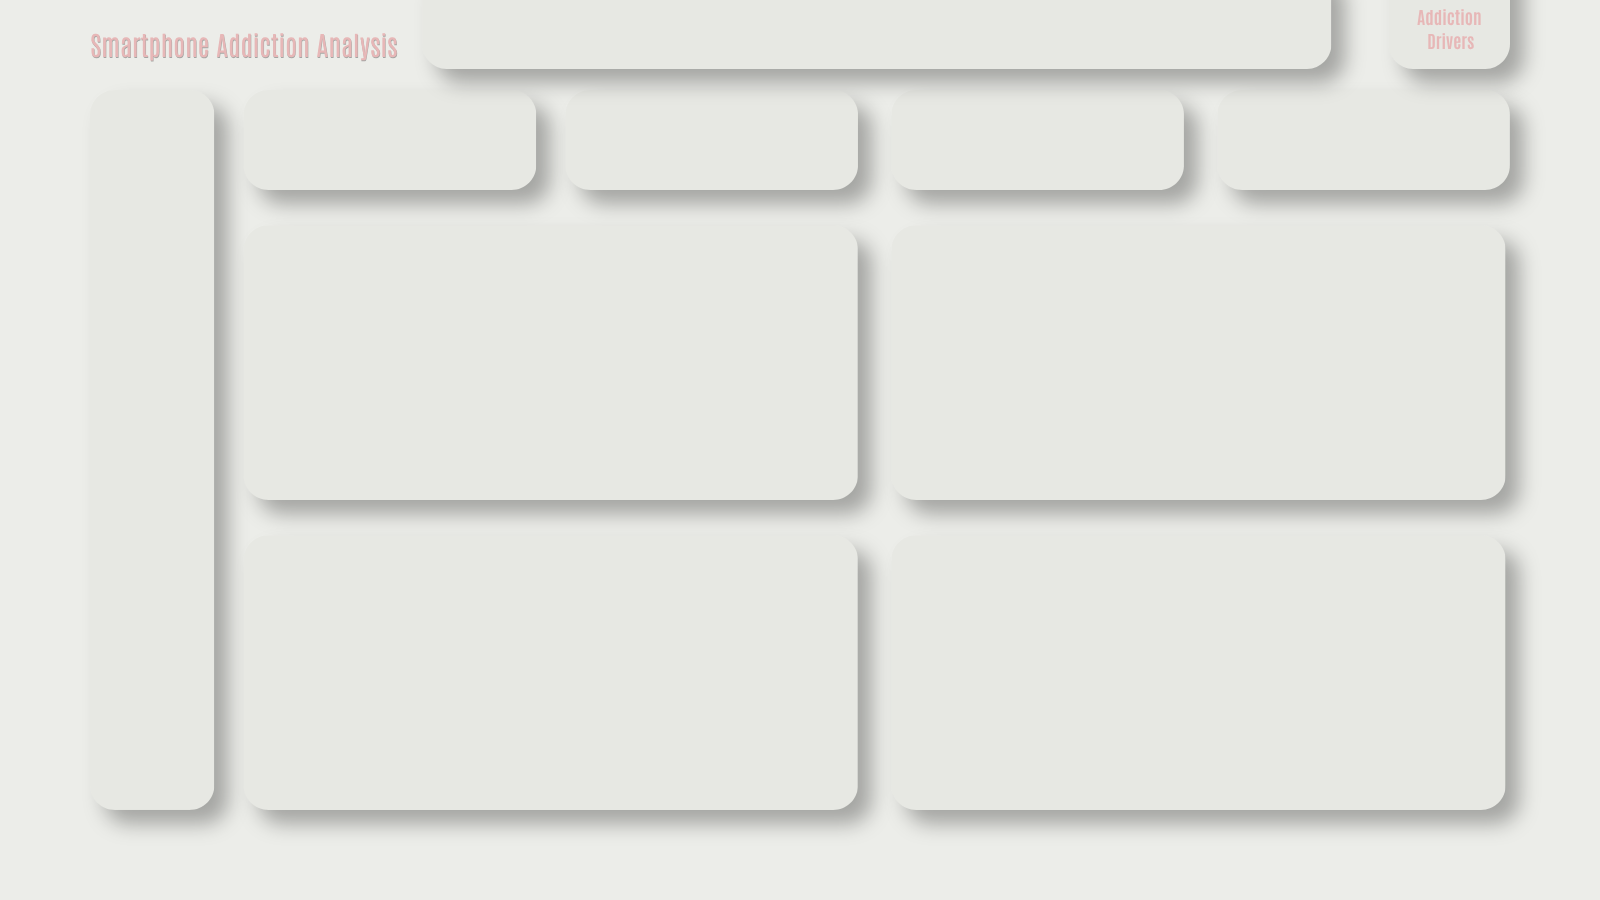

Layout of this report page (visuals, bound fields, positions):
{"tool":"powerbi","page":{"name":"Overview","canvas":[1280,720],"ordinal":0},"visuals":[{"type":"card","fields":{"Values":["Count(smartphone_addiction_cleaned.user_id)"]},"box":[148.7,112.8,189.9,200.6],"z":0},{"type":"pieChart","fields":{"Y":["Divide(Count(smartphone_addiction_cleaned.user_id), ScopedEval(Count(smartphone_addiction_cleaned.user_id), []))"],"Category":["smartphone_addiction_cleaned.addiction_level"]},"box":[299.6,367.7,176,147.8],"z":1000},{"type":"card","fields":{"Values":["Avg(smartphone_addiction_cleaned.daily_screen_time_hours)"]},"box":[217.9,477.6,200.4,74.9],"z":2000},{"type":"pieChart","fields":{"Category":["smartphone_addiction_cleaned.stress_level"],"Y":["Divide(Count(smartphone_addiction_cleaned.user_id), ScopedEval(Count(smartphone_addiction_cleaned.user_id), []))"]},"box":[368.6,112.8,214,177],"z":3000},{"type":"card","fields":{"Values":["Avg(smartphone_addiction_cleaned.sleep_hours)"]},"box":[418.2,298.6,172.2,140.1],"z":4000},{"type":"card","fields":{"Values":["Avg(smartphone_addiction_cleaned.social_media_hours)"]},"box":[299.6,570,190.6,74.9],"z":5000},{"type":"donutChart","fields":{"Category":["smartphone_addiction_cleaned.gender"],"Y":["Divide(Count(smartphone_addiction_cleaned.user_id), ScopedEval(Count(smartphone_addiction_cleaned.user_id), []))"]},"box":[647.8,87.5,191.6,156.6],"z":6000},{"type":"card","fields":{"Values":["Median(smartphone_addiction_cleaned.weekend_screen_time)"]},"box":[686.7,289.8,193.6,187.7],"z":7000},{"type":"card","fields":{"Values":["Median(smartphone_addiction_cleaned.work_study_hours)"]},"box":[590.4,570,191.6,89.5],"z":8000},{"type":"card","fields":{"Values":["Median(smartphone_addiction_cleaned.gaming_hours)"]},"box":[975.6,105,157.6,139.1],"z":9000},{"type":"card","fields":{"Values":["Median(smartphone_addiction_cleaned.app_opens_per_day)"]},"box":[1020.3,314.2,140.1,124.5],"z":10000},{"type":"card","fields":{"Values":["Median(smartphone_addiction_cleaned.notifications_per_day)"]},"box":[963.9,525.2,219.8,89.5],"z":11000}]}

Visuals, with their boxes in screenshot pixels (x1, y1, x2, y2), scaled from the page's 1280x720 canvas onto the 1600x900 screenshot:
card - Count(smartphone_addiction_cleaned.user_id): x1=186, y1=141, x2=423, y2=392
pieChart - Divide(Count(smartphone_addiction_cleaned.user_id), ScopedEval(Count(smartphone_addiction_cleaned.user_id), [])) x smartphone_addiction_cleaned.addiction_level: x1=374, y1=460, x2=594, y2=644
card - Avg(smartphone_addiction_cleaned.daily_screen_time_hours): x1=272, y1=597, x2=523, y2=691
pieChart - smartphone_addiction_cleaned.stress_level x Divide(Count(smartphone_addiction_cleaned.user_id), ScopedEval(Count(smartphone_addiction_cleaned.user_id), [])): x1=461, y1=141, x2=728, y2=362
card - Avg(smartphone_addiction_cleaned.sleep_hours): x1=523, y1=373, x2=738, y2=548
card - Avg(smartphone_addiction_cleaned.social_media_hours): x1=374, y1=712, x2=613, y2=806
donutChart - smartphone_addiction_cleaned.gender x Divide(Count(smartphone_addiction_cleaned.user_id), ScopedEval(Count(smartphone_addiction_cleaned.user_id), [])): x1=810, y1=109, x2=1049, y2=305
card - Median(smartphone_addiction_cleaned.weekend_screen_time): x1=858, y1=362, x2=1100, y2=597
card - Median(smartphone_addiction_cleaned.work_study_hours): x1=738, y1=712, x2=978, y2=824
card - Median(smartphone_addiction_cleaned.gaming_hours): x1=1220, y1=131, x2=1416, y2=305
card - Median(smartphone_addiction_cleaned.app_opens_per_day): x1=1275, y1=393, x2=1450, y2=548
card - Median(smartphone_addiction_cleaned.notifications_per_day): x1=1205, y1=656, x2=1480, y2=768
